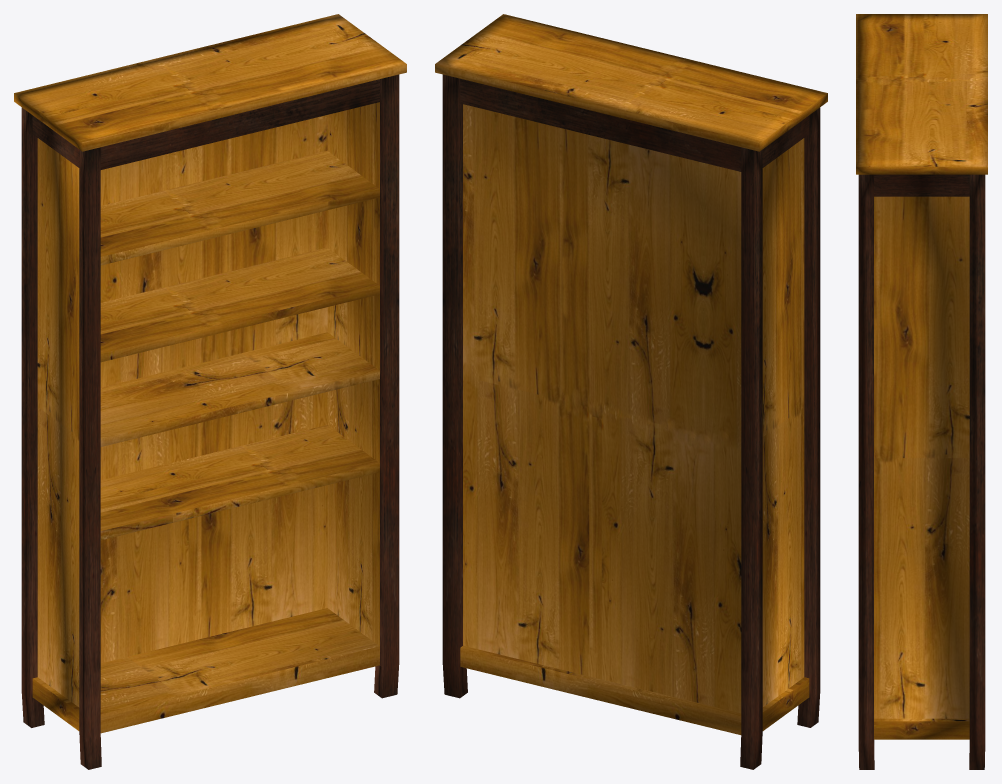
The model's file is Bookcase.fbx.
3 views of the same model, side by side, from view 1: azimuth 30°, elevation 25°; view 2: azimuth 150°, elevation 25°; view 3: azimuth 270°, elevation 25° (orthographic). The views are drawn at different scales.
Parts seen in each view (by area): view 1: Bookcase; view 2: Bookcase; view 3: Bookcase.
Part boxes in pixels (x1,y1,x2,y2): Bookcase: (14, 14, 406, 769); Bookcase: (435, 14, 827, 769); Bookcase: (856, 14, 987, 769).
Size of the model in its own units: 93.59 by 174 by 34.19.
Materials: 1 (1 with a texture image).
